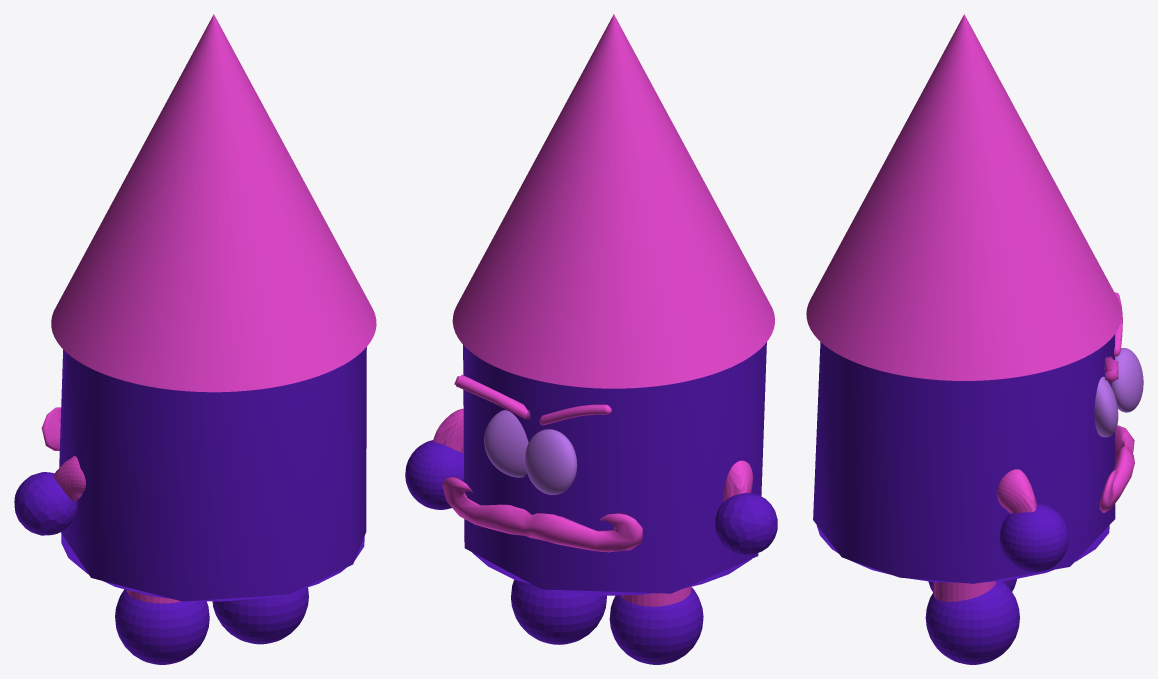
Rendered from gnomRange.fbx.
3 renders of one model, left to right at view 1: azimuth 30°, elevation 25°; view 2: azimuth 150°, elevation 25°; view 3: azimuth 270°, elevation 25°, orthographic. The views are drawn at different scales.
Parts seen in each view (by area): view 1: mesh_id27, mesh_id29, Сфера.002, Сфера.001, Сфера.007, Сфера.005, node_id46; view 2: mesh_id27, mesh_id29, node_id46, Сфера.002, Сфера.001, Сфера.007, Сфера.006, node_id59, node_id61, node_id57, Сфера, Сфера.005 (+2 smaller); view 3: mesh_id27, mesh_id29, Сфера.001, Сфера.006, node_id46, node_id59, Сфера, node_id61, Цилиндр.001.
Boxes of the visible parts, left/top/right/bottom form: mesh_id27: left=51, top=14, right=376, bottom=392; mesh_id29: left=59, top=347, right=366, bottom=601; Сфера.002: left=115, top=589, right=209, bottom=664; Сфера.001: left=212, top=587, right=308, bottom=644; Сфера.007: left=14, top=472, right=77, bottom=535; Сфера.005: left=54, top=456, right=85, bottom=501; node_id46: left=41, top=407, right=61, bottom=450; mesh_id27: left=452, top=14, right=774, bottom=388; mesh_id29: left=463, top=342, right=766, bottom=595; node_id46: left=442, top=476, right=642, bottom=552; Сфера.002: left=609, top=587, right=703, bottom=664; Сфера.001: left=511, top=579, right=606, bottom=644; Сфера.007: left=714, top=492, right=777, bottom=555; Сфера.006: left=405, top=440, right=463, bottom=509; node_id59: left=525, top=429, right=577, bottom=494; node_id61: left=484, top=410, right=528, bottom=477; node_id57: left=454, top=374, right=530, bottom=419; Сфера: left=433, top=408, right=463, bottom=452; Сфера.005: left=723, top=460, right=752, bottom=502; mesh_id27: left=806, top=14, right=1122, bottom=380; mesh_id29: left=813, top=334, right=1115, bottom=583; Сфера.001: left=925, top=581, right=1019, bottom=664; Сфера.006: left=999, top=503, right=1068, bottom=572; node_id46: left=1099, top=425, right=1134, bottom=512; node_id59: left=1111, top=348, right=1143, bottom=412; Сфера: left=997, top=469, right=1036, bottom=513; node_id61: left=1094, top=376, right=1118, bottom=437; Цилиндр.001: left=933, top=581, right=996, bottom=601.
Bounding box in the file's own units: 148 × 261 × 128.
